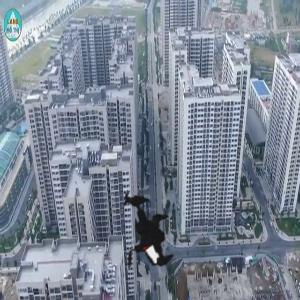drone: (79, 171, 205, 297)
